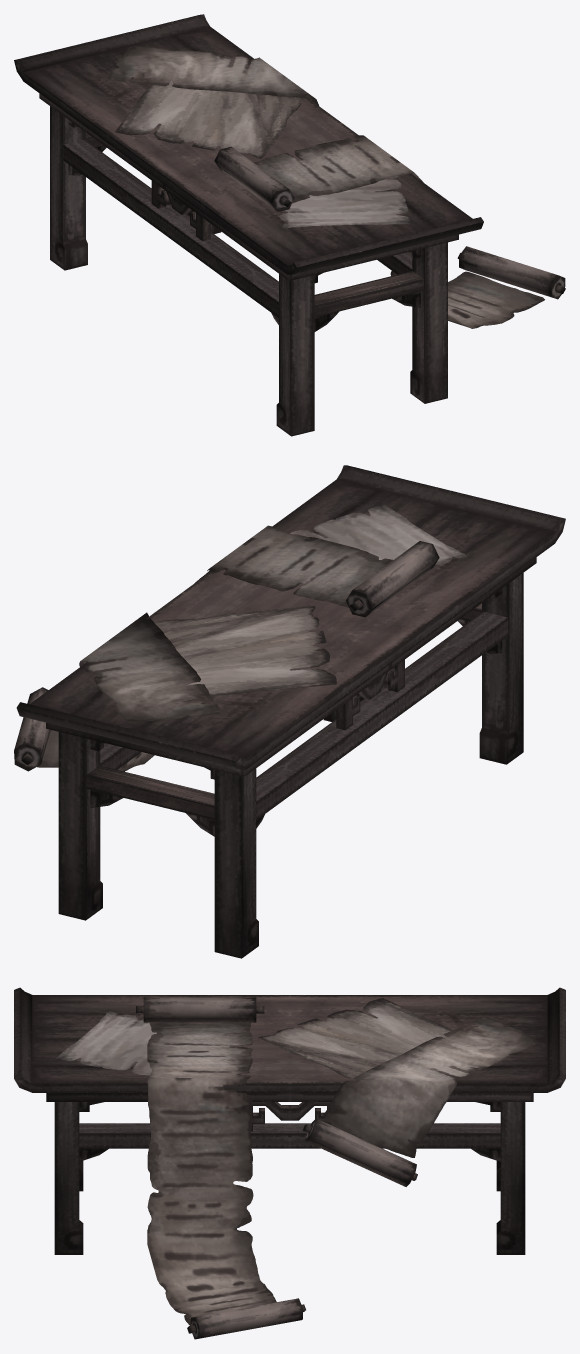
File: PRP_TableD.FBX
3 views of the same model, one above another, from view 1: azimuth 30°, elevation 25°; view 2: azimuth 150°, elevation 25°; view 3: azimuth 270°, elevation 25° (orthographic). The views are drawn at different scales.
Parts seen in each view (by area): view 1: PRP_TableD; view 2: PRP_TableD; view 3: PRP_TableD.
Part boxes in pixels (box(x1,y1,x2,y2)): PRP_TableD: box(14, 14, 565, 436); PRP_TableD: box(14, 465, 565, 958); PRP_TableD: box(14, 987, 565, 1339).
Size of the model in its own units: 303 by 162 by 409.
